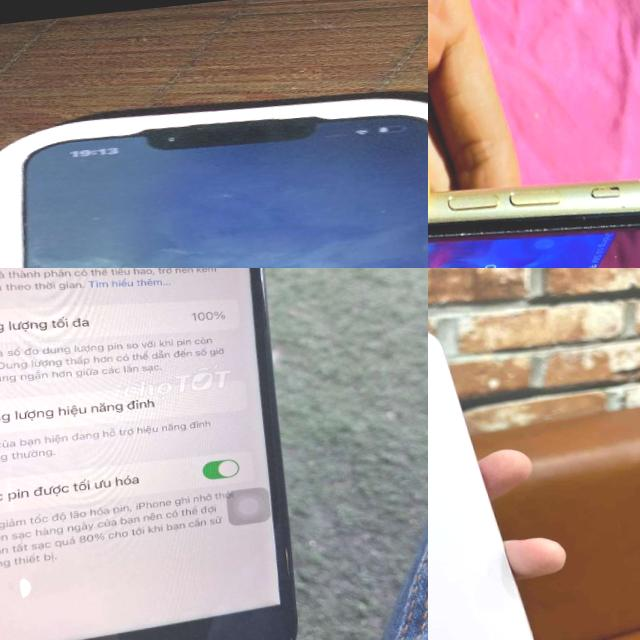gen_12_13: (428, 312, 548, 640)
gen_14: (0, 66, 428, 268)
gen_7_8: (0, 268, 311, 640), (428, 144, 640, 268)
scratch: (428, 198, 640, 257), (581, 172, 624, 197), (440, 190, 460, 203), (507, 186, 523, 202)
screen_defect: (12, 568, 34, 604)
